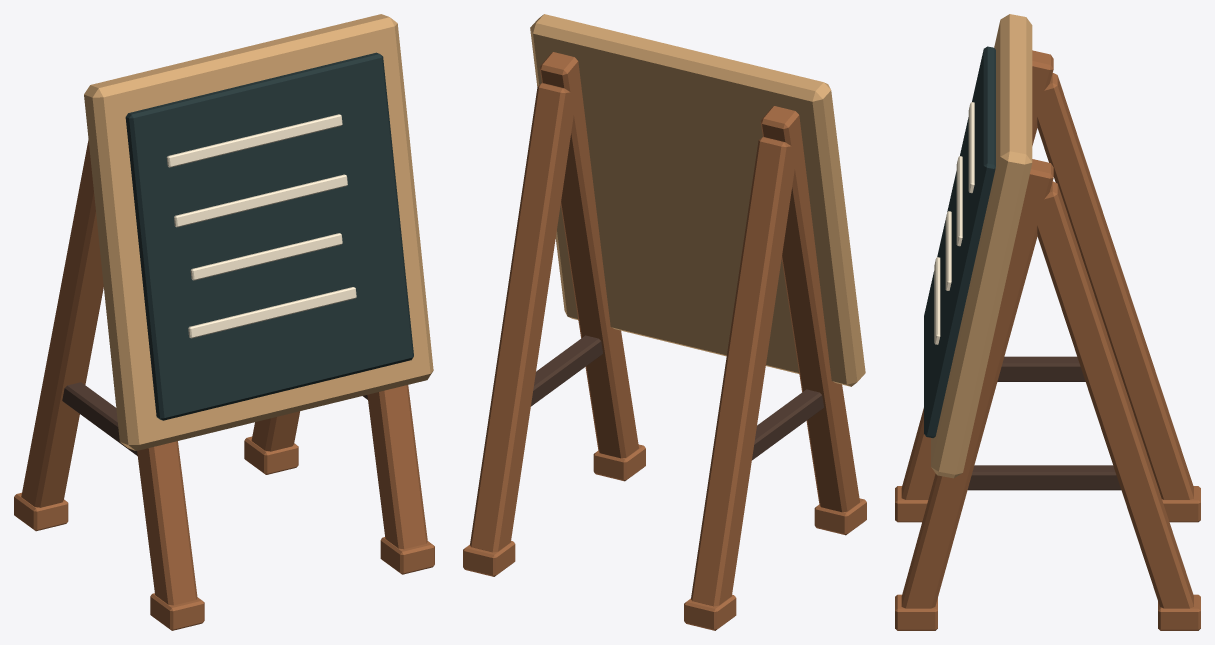
File: 06_Menu_Easel.glb
3 renders of one model, left to right at view 1: azimuth 30°, elevation 25°; view 2: azimuth 150°, elevation 25°; view 3: azimuth 270°, elevation 25°, orthographic. The views are drawn at different scales.
Visible parts, largest first — view 1: 06_Menu_Easel__Body; view 2: 06_Menu_Easel__Body; view 3: 06_Menu_Easel__Body.
Boxes of the visible parts, <box> form: 06_Menu_Easel__Body: <box>14,14,434,630</box>; 06_Menu_Easel__Body: <box>463,14,866,630</box>; 06_Menu_Easel__Body: <box>895,14,1200,630</box>.
Size of the model in its own units: 1.67 by 2.64 by 1.5.
Materials: 1 (1 with a texture image).
